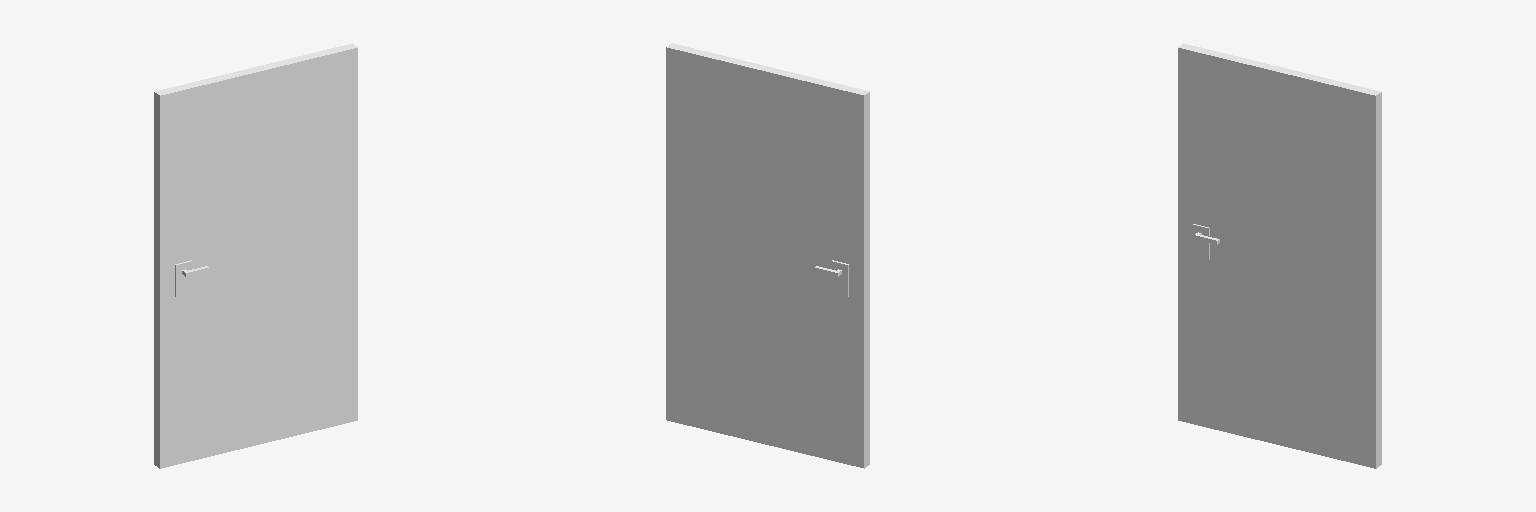
Rendered from Door.obj.
3 renders of one model, left to right at view 1: azimuth 30°, elevation 25°; view 2: azimuth 150°, elevation 25°; view 3: azimuth 330°, elevation 25°, orthographic.
Visible parts, largest first — view 1: Neo_Door_01_snaps001; view 2: Neo_Door_01_snaps001; view 3: Neo_Door_01_snaps001.
Part boxes in pixels (bbox=[...]): Neo_Door_01_snaps001: bbox=[154, 43, 357, 468]; Neo_Door_01_snaps001: bbox=[666, 43, 869, 468]; Neo_Door_01_snaps001: bbox=[1178, 43, 1381, 468].
Bounding box in the file's own units: 1.25 × 2.25 × 0.1758.